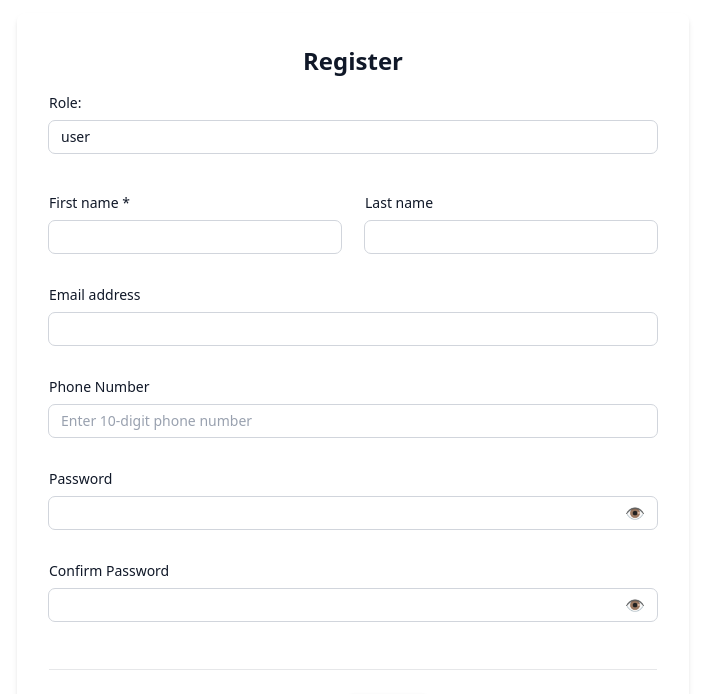
Scenario: RegisterPage › shows password mismatch message
Type "Password1" into the password field labelled "Password" at (353, 512), box [49,496,657,528]
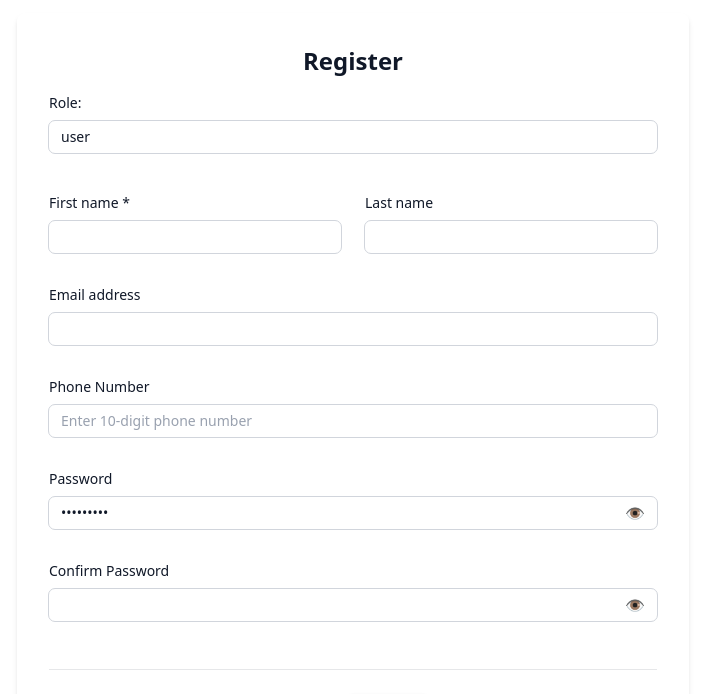
Type "Password2" into the password field labelled "Confirm Password" at (353, 604), box [49,588,657,620]
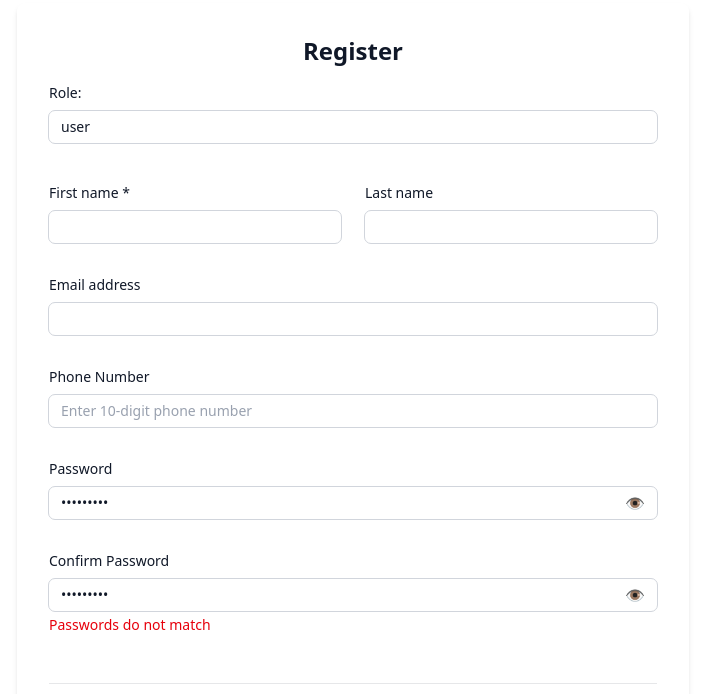
Expected: the text "Passwords do not match" is shown, [49,615,211,634]
